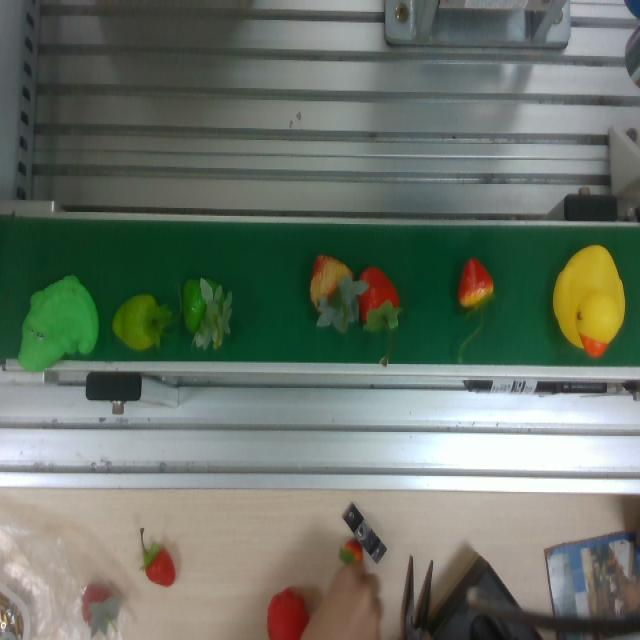Large Unripe Strawberry: (136, 524, 178, 589)
Moldy Strawberry: (305, 245, 354, 335)
None - Strawberry: (540, 230, 631, 356), (12, 276, 114, 369)
Small Ripe Strawberry: (358, 248, 406, 359)
Small Unripe Strawberry: (184, 263, 238, 361), (112, 273, 174, 358), (449, 248, 500, 336)
conveyor: (0, 211, 639, 374)
